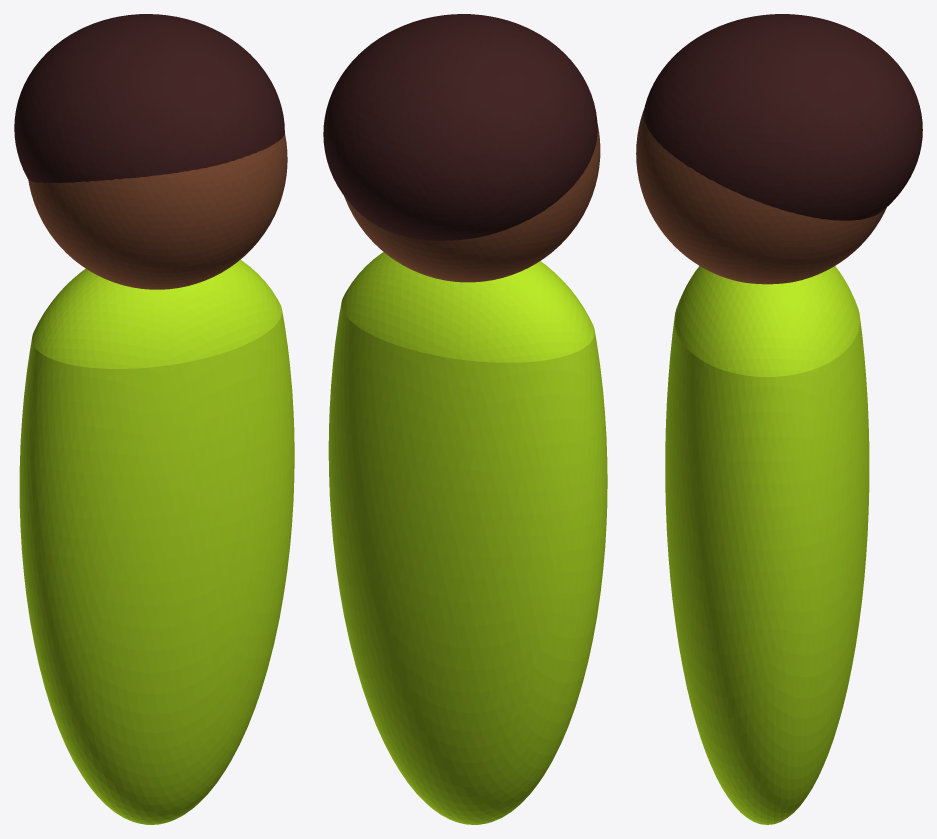
File: Person3.fbx
The picture shows the model from 3 angles, left to right: view 1: azimuth 30°, elevation 25°; view 2: azimuth 150°, elevation 25°; view 3: azimuth 270°, elevation 25°; orthographic projection.
Parts seen in each view (by area): view 1: node_id8 (×3); view 2: node_id8 (×3); view 3: node_id8 (×3).
Part boxes in pixels (bbox=[...]): node_id8 (×3): bbox=[14, 14, 294, 824]; node_id8 (×3): bbox=[323, 14, 607, 824]; node_id8 (×3): bbox=[636, 14, 922, 824].
Size of the model in its own units: 0.1742 by 0.512 by 0.1683.
